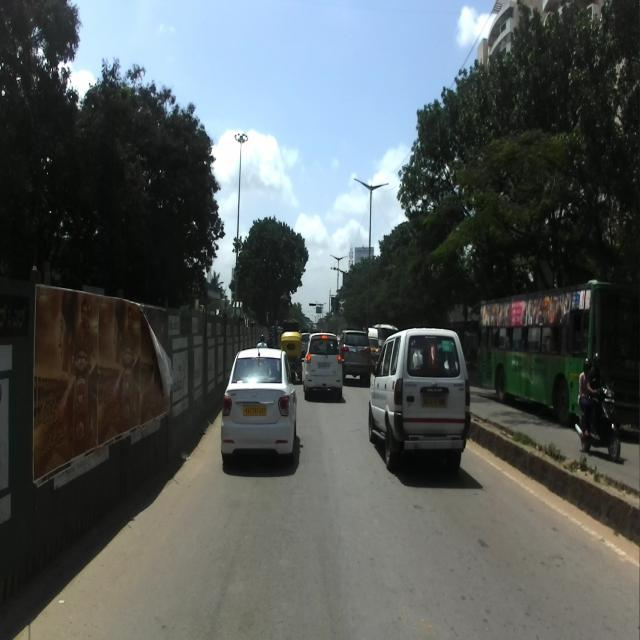bus: (476, 280, 639, 427)
car: (367, 325, 470, 469), (220, 347, 298, 466), (303, 330, 343, 400)
